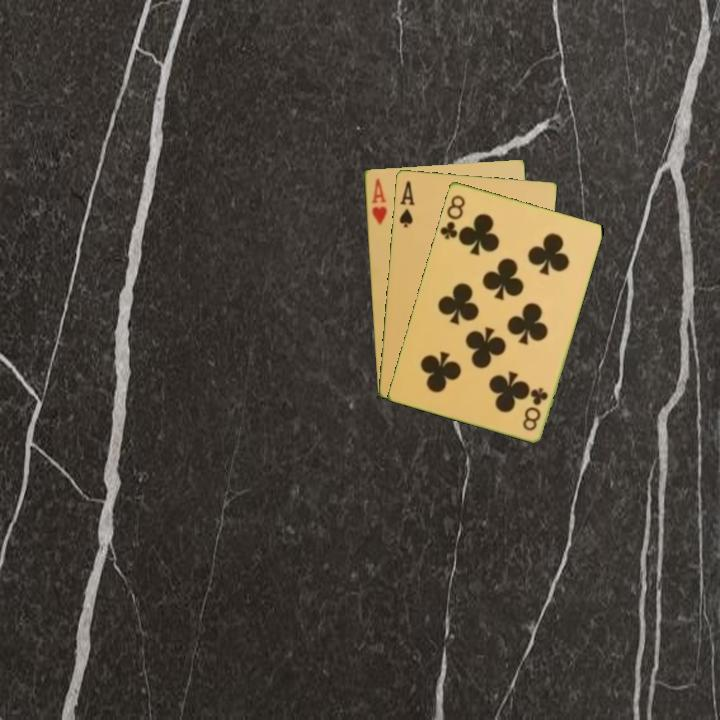8c: (436, 191, 468, 242), (519, 383, 551, 433)
Ah: (368, 175, 389, 227)
As: (396, 177, 417, 230)
